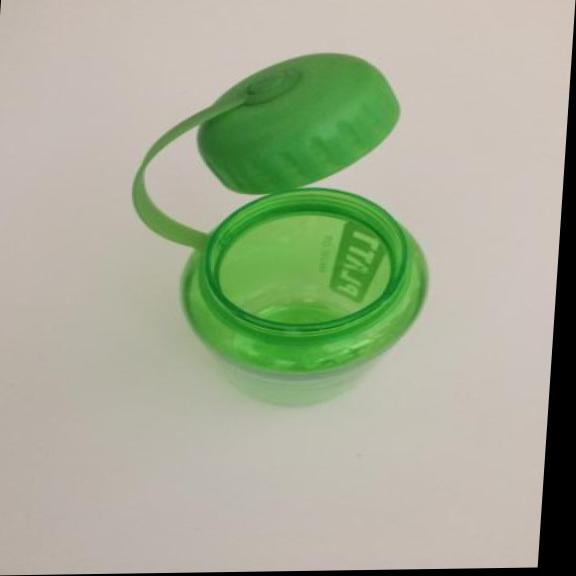Plastik: (113, 43, 463, 416)
